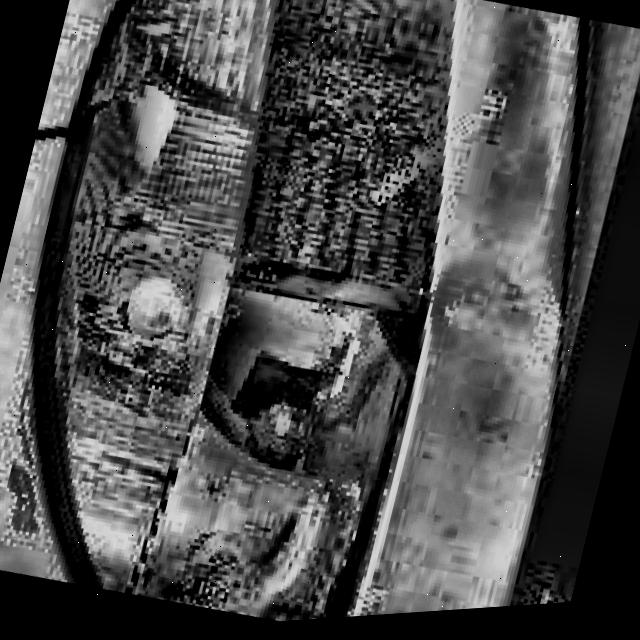tail_lamp: (164, 204, 440, 521)
